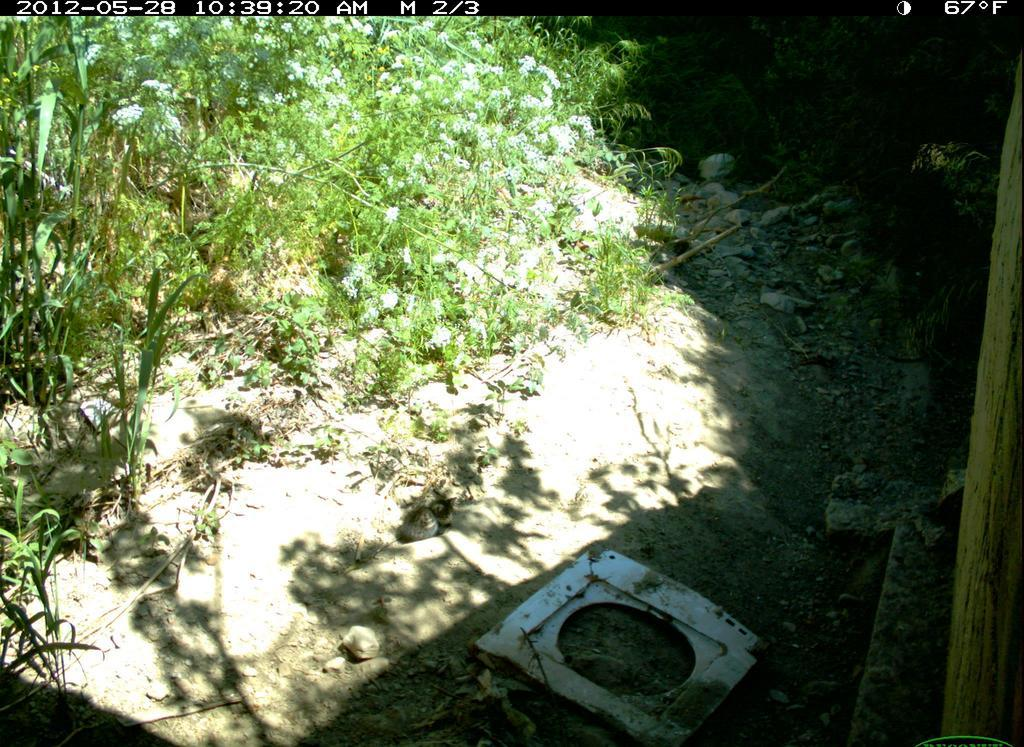cat: (387, 483, 465, 553)
